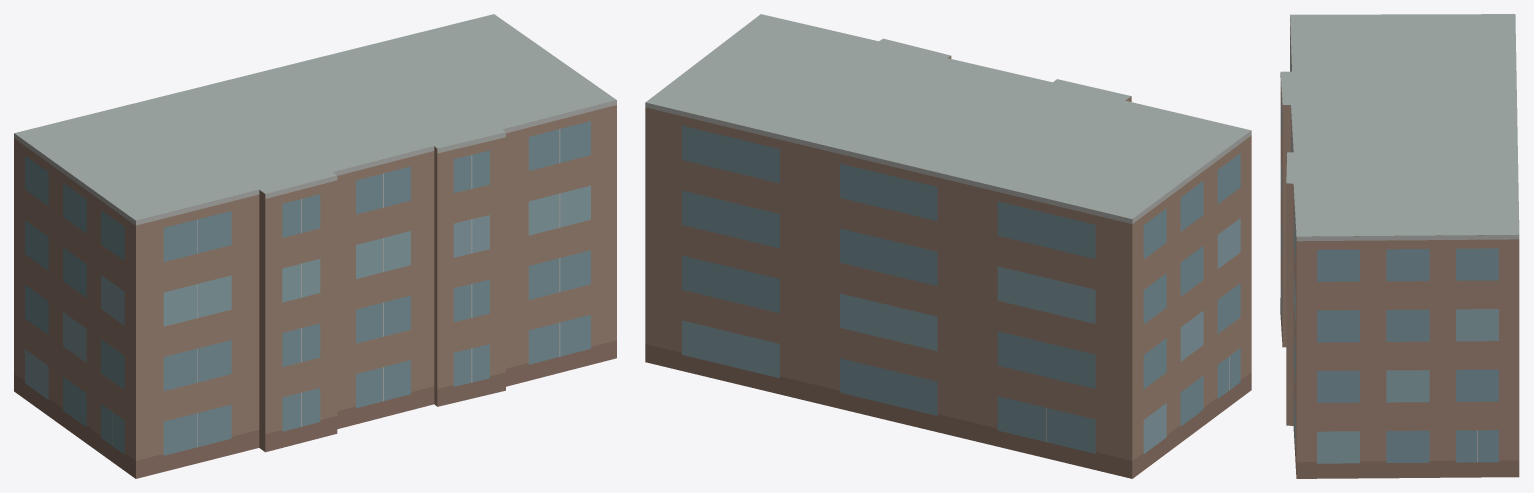
File: survey-upis-32631862.glb
The picture shows the model from 3 angles, left to right: view 1: azimuth 30°, elevation 25°; view 2: azimuth 150°, elevation 25°; view 3: azimuth 270°, elevation 25°; orthographic projection. The views are drawn at different scales.
Parts seen in each view (by area): view 1: survey-upis-32631862.tmp; view 2: survey-upis-32631862.tmp; view 3: survey-upis-32631862.tmp.
Boxes of the visible parts, x1,y1,x2,y2 form: survey-upis-32631862.tmp: (14, 14, 616, 478); survey-upis-32631862.tmp: (645, 14, 1251, 478); survey-upis-32631862.tmp: (1280, 14, 1519, 478).
Bounding box in the file's own units: 25.23 × 12.8 × 11.45.
